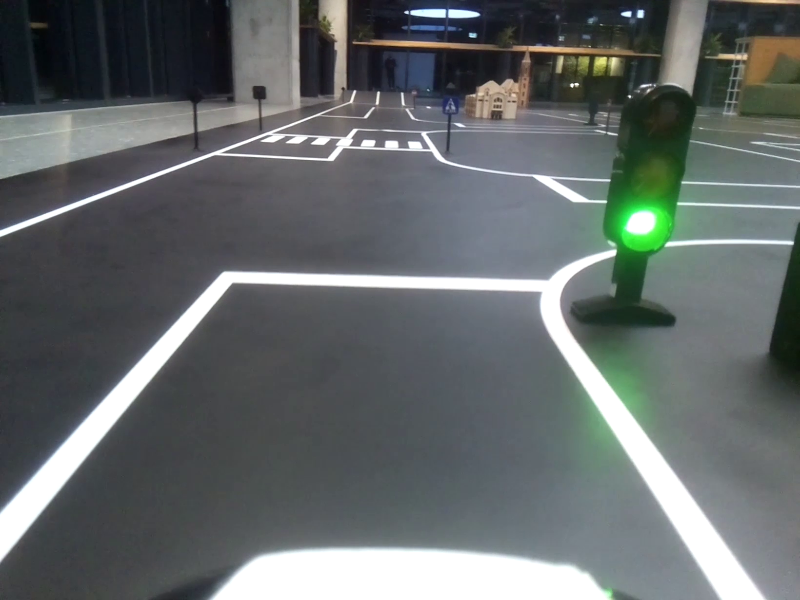traffic_green: (608, 82, 679, 256)
